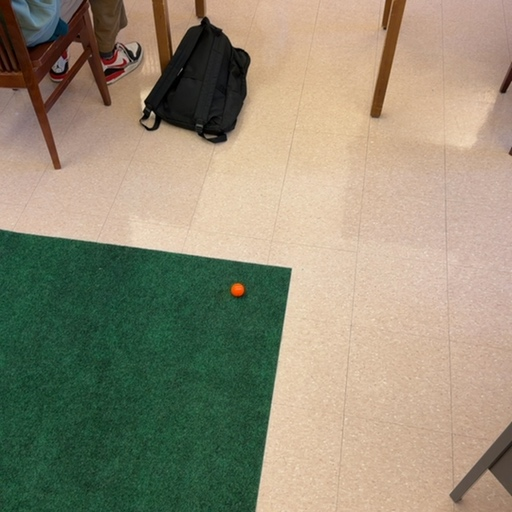Ball: (231, 283, 244, 296)
